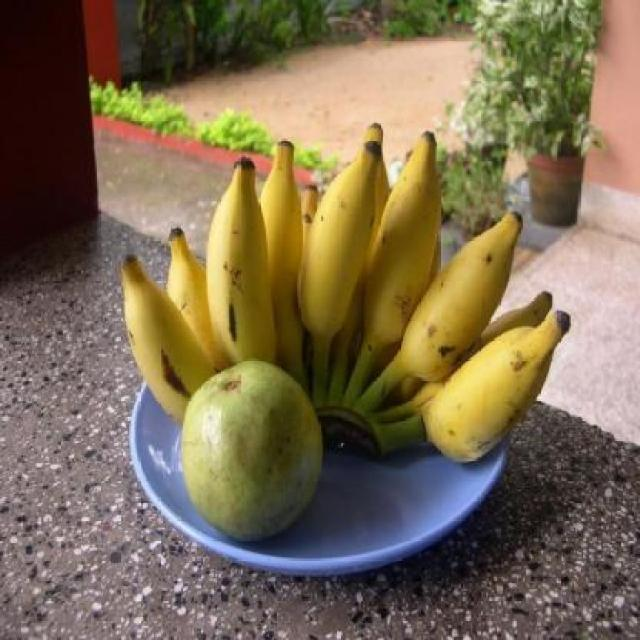Banana: (117, 121, 571, 455)
Mango: (180, 359, 326, 547)
